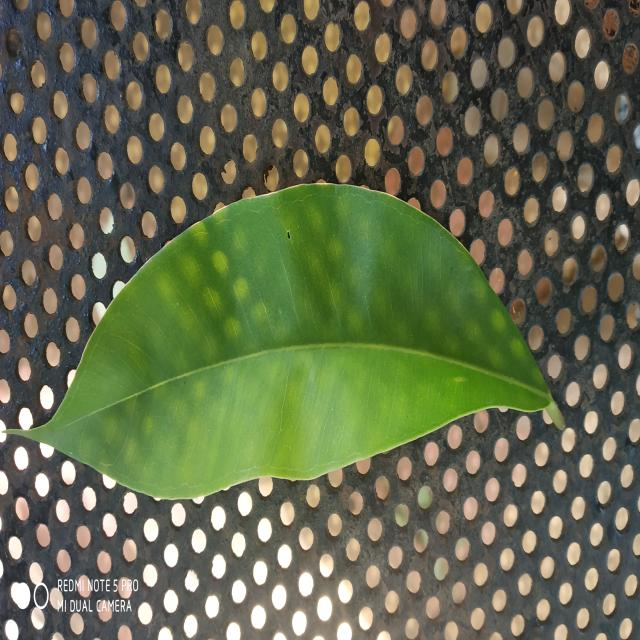nerale: (12, 184, 565, 498)
